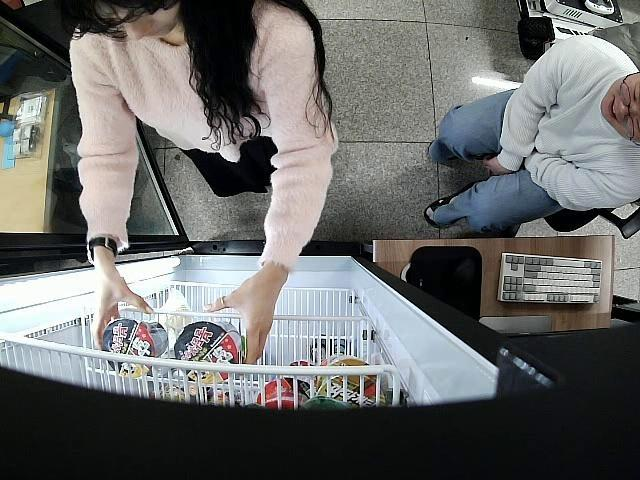08_buldak_S: (174, 321, 238, 384), (100, 318, 168, 377)
